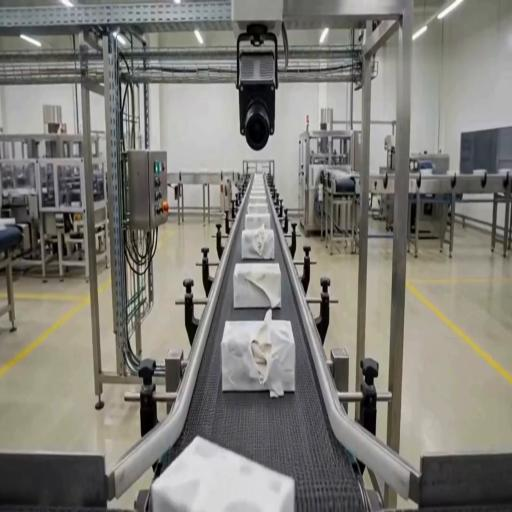defective: (221, 316, 298, 398), (232, 260, 285, 311), (241, 226, 275, 260)
good: (149, 428, 295, 512), (245, 212, 271, 228), (247, 202, 269, 211), (249, 193, 268, 202), (250, 188, 267, 194), (253, 179, 265, 185)
